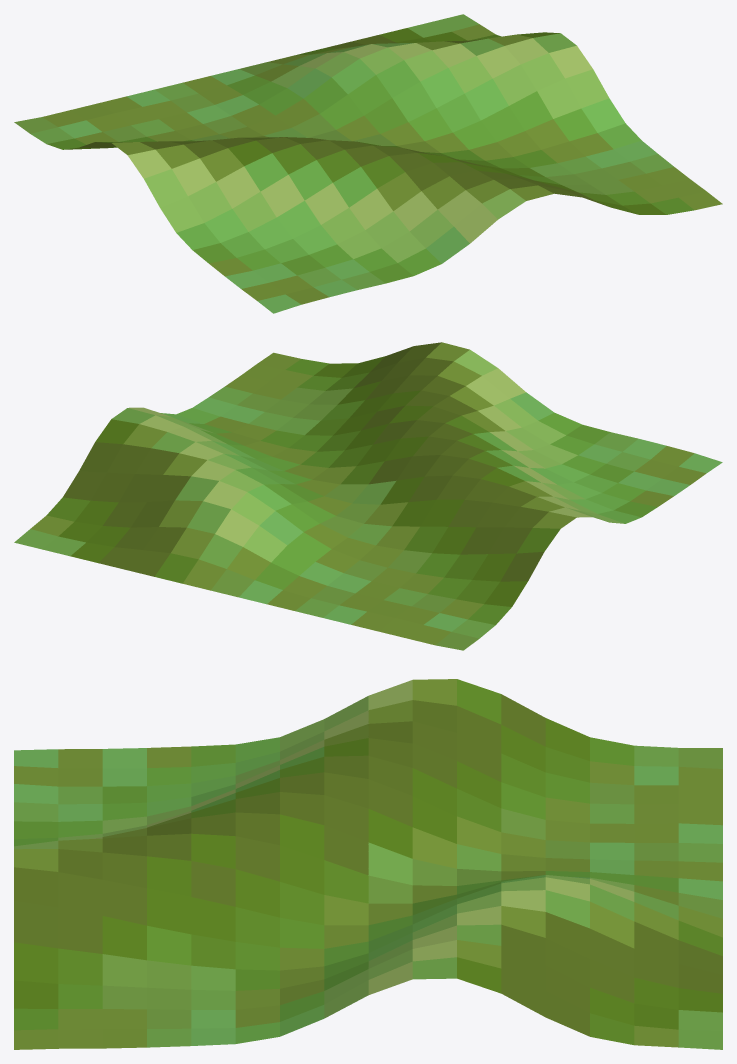
The model's file is hills14.obj.
3 renders of one model, top to bottom at view 1: azimuth 30°, elevation 25°; view 2: azimuth 150°, elevation 25°; view 3: azimuth 270°, elevation 25°, orthographic. The views are drawn at different scales.
Parts seen in each view (by area): view 1: hills14; view 2: hills14; view 3: hills14.
Part boxes in pixels (left/top/right/bottom): hills14: left=14, top=14, right=722, bottom=313; hills14: left=14, top=342, right=722, bottom=650; hills14: left=14, top=679, right=722, bottom=1049.
Size of the model in its own units: 1 by 0.1152 by 1.
1 material, 1 textured.
